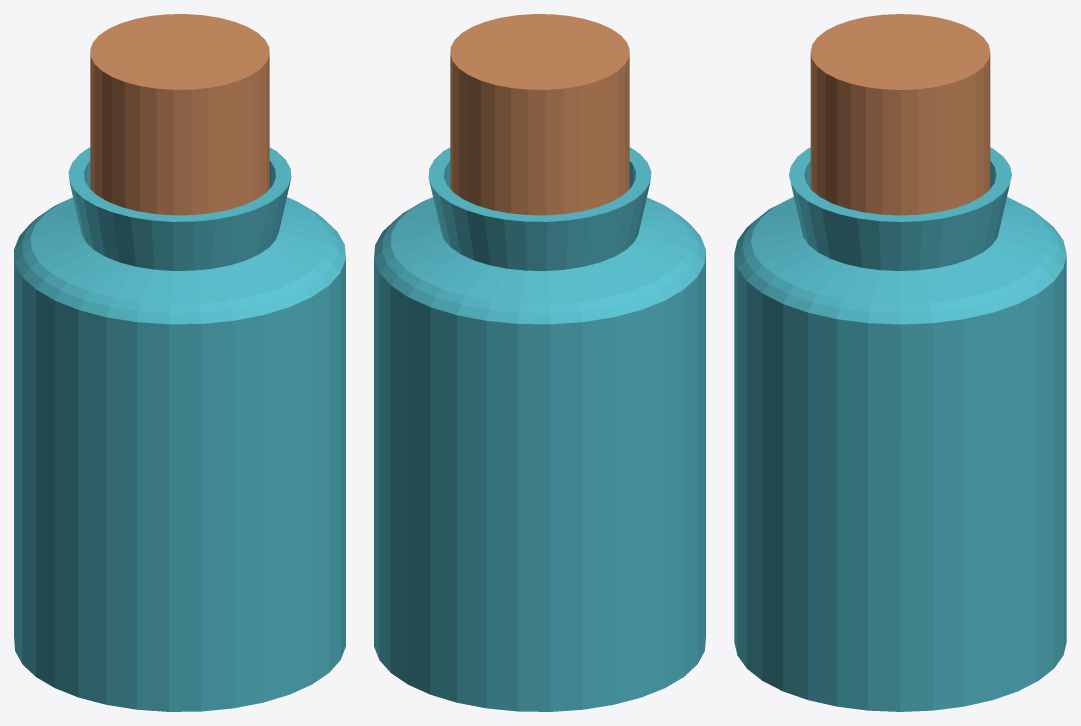
File: Colirio.fbx
3 views of the same model, side by side, from view 1: azimuth 30°, elevation 25°; view 2: azimuth 150°, elevation 25°; view 3: azimuth 270°, elevation 25° (orthographic).
Parts seen in each view (by area): view 1: Cylinder; view 2: Cylinder; view 3: Cylinder.
Boxes of the visible parts, x1=… form: Cylinder: x1=14, y1=14, x2=345, y2=711; Cylinder: x1=374, y1=14, x2=705, y2=711; Cylinder: x1=734, y1=14, x2=1066, y2=711.
Bounding box in the file's own units: 32.62 × 65.63 × 32.62.
